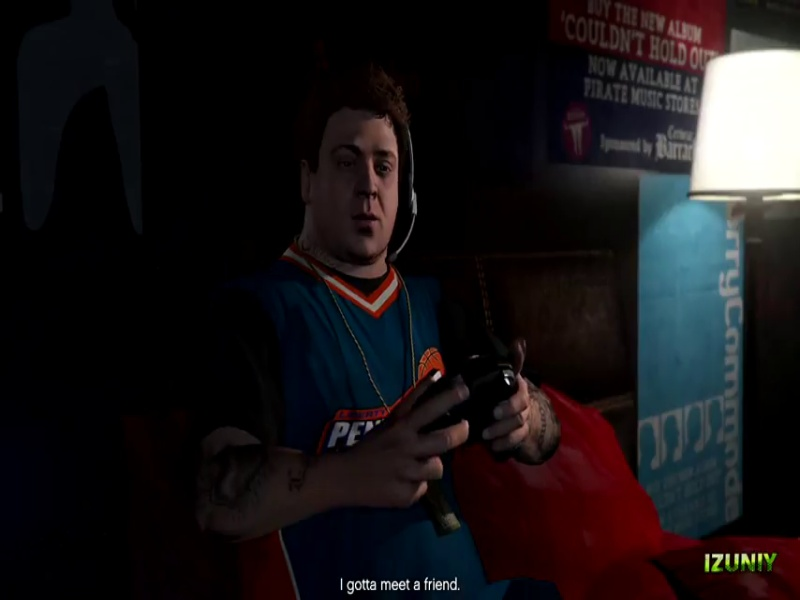human: (189, 67, 597, 583)
